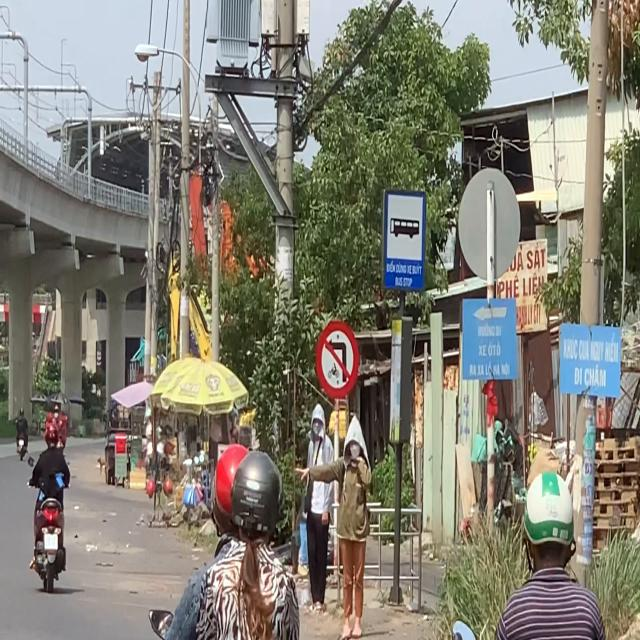Ben xe buyt: (380, 185, 427, 292)
Cam re trai: (314, 321, 359, 399)
